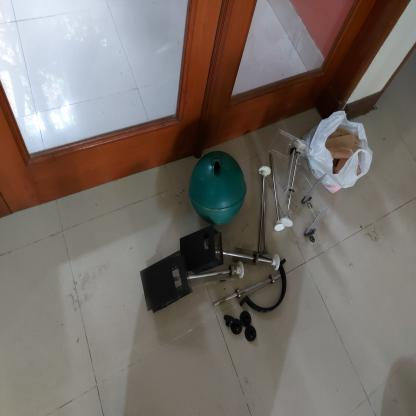green_buoy: (187, 148, 248, 230)
